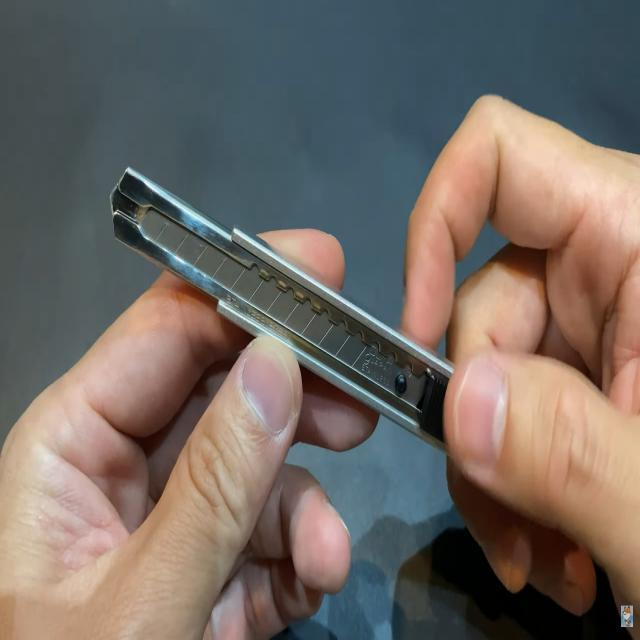cutter: (0, 55, 640, 640)
